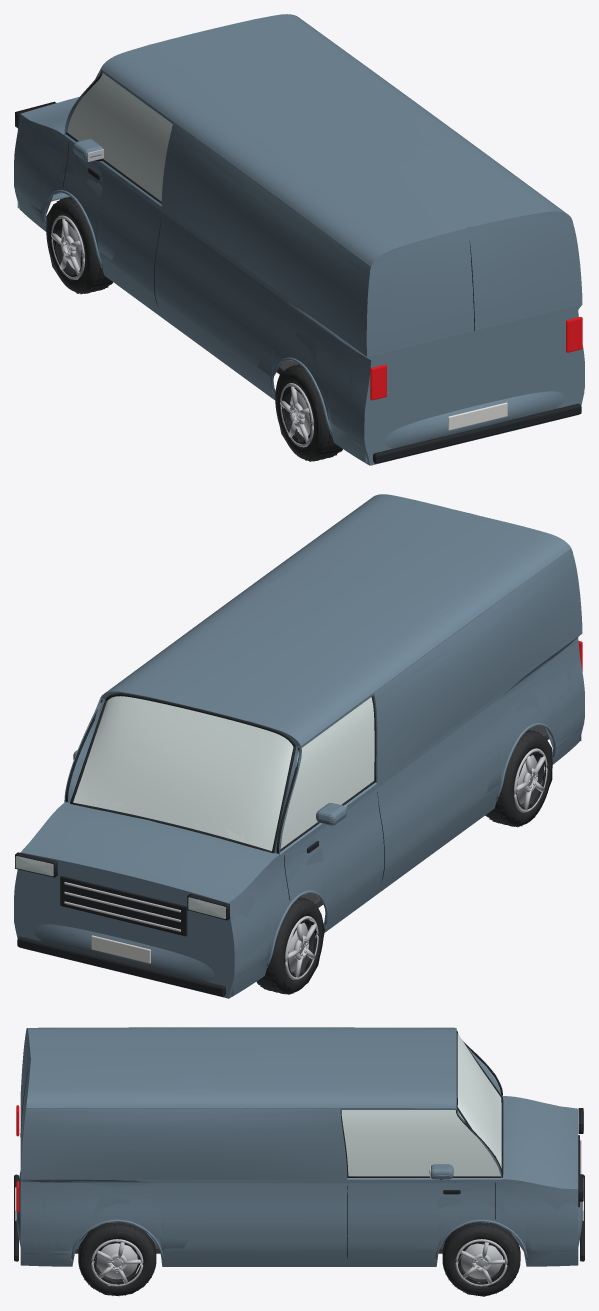
The model's file is VehicleVan.fbx.
3 renders of one model, top to bottom at view 1: azimuth 30°, elevation 25°; view 2: azimuth 150°, elevation 25°; view 3: azimuth 270°, elevation 25°, orthographic. The views are drawn at different scales.
Visible parts, largest first — view 1: VehicleVan_Body_LOD0_Export, VehicleVan_Body_LOD2_Export, VehicleVan_Body_LOD1_Export, VehicleVan_Glass_LOD0_Export, VehicleVan_Wheel_1_LOD0_Export, VehicleVan_Wheel_0_LOD0_Export, VehicleVan_Wheel_0_LOD1_Export, VehicleVan_Wheel_1_LOD1_Export, VehicleVan_Glass_LOD1_Export, VehicleVan_Wheel_0_LOD2_Export, VehicleVan_Wheel_1_LOD2_Export; view 2: VehicleVan_Body_LOD0_Export, VehicleVan_Body_LOD2_Export, VehicleVan_Glass_LOD0_Export, VehicleVan_Body_LOD1_Export, VehicleVan_Glass_LOD1_Export, VehicleVan_Wheel_1_LOD0_Export, VehicleVan_Wheel_0_LOD0_Export, VehicleVan_Wheel_1_LOD1_Export, VehicleVan_Wheel_0_LOD1_Export, VehicleVan_Glass_LOD2_Export, VehicleVan_Wheel_0_LOD2_Export, VehicleVan_Wheel_1_LOD2_Export; view 3: VehicleVan_Body_LOD0_Export, VehicleVan_Body_LOD2_Export, VehicleVan_Body_LOD1_Export, VehicleVan_Glass_LOD0_Export, VehicleVan_Wheel_3_LOD0_Export, VehicleVan_Wheel_2_LOD0_Export, VehicleVan_Wheel_2_LOD1_Export, VehicleVan_Glass_LOD1_Export, VehicleVan_Wheel_3_LOD1_Export, VehicleVan_Wheel_3_LOD2_Export, VehicleVan_Wheel_2_LOD2_Export.
Part boxes in pixels (box(x1,y1,x2,y2)): VehicleVan_Body_LOD0_Export: box(14, 14, 584, 465); VehicleVan_Body_LOD2_Export: box(14, 14, 584, 465); VehicleVan_Body_LOD1_Export: box(14, 14, 584, 464); VehicleVan_Glass_LOD0_Export: box(67, 73, 172, 201); VehicleVan_Wheel_1_LOD0_Export: box(46, 197, 112, 294); VehicleVan_Wheel_0_LOD0_Export: box(275, 364, 341, 461); VehicleVan_Wheel_0_LOD1_Export: box(275, 367, 341, 460); VehicleVan_Wheel_1_LOD1_Export: box(46, 199, 111, 293); VehicleVan_Glass_LOD1_Export: box(70, 77, 171, 187); VehicleVan_Wheel_0_LOD2_Export: box(277, 367, 342, 458); VehicleVan_Wheel_1_LOD2_Export: box(46, 200, 112, 293); VehicleVan_Body_LOD0_Export: box(14, 494, 584, 998); VehicleVan_Body_LOD2_Export: box(14, 499, 584, 998); VehicleVan_Glass_LOD0_Export: box(15, 696, 374, 918); VehicleVan_Body_LOD1_Export: box(14, 494, 583, 997); VehicleVan_Glass_LOD1_Export: box(16, 696, 374, 917); VehicleVan_Wheel_1_LOD0_Export: box(257, 897, 323, 994); VehicleVan_Wheel_0_LOD0_Export: box(486, 729, 552, 827); VehicleVan_Wheel_1_LOD1_Export: box(257, 900, 323, 994); VehicleVan_Wheel_0_LOD1_Export: box(487, 732, 552, 825); VehicleVan_Glass_LOD2_Export: box(94, 704, 298, 842); VehicleVan_Wheel_0_LOD2_Export: box(485, 733, 552, 826); VehicleVan_Wheel_1_LOD2_Export: box(256, 903, 324, 994); VehicleVan_Body_LOD0_Export: box(14, 1027, 584, 1266); VehicleVan_Body_LOD2_Export: box(15, 1027, 583, 1266); VehicleVan_Body_LOD1_Export: box(16, 1027, 582, 1266); VehicleVan_Glass_LOD0_Export: box(341, 1034, 583, 1197); VehicleVan_Wheel_3_LOD0_Export: box(442, 1222, 520, 1295); VehicleVan_Wheel_2_LOD0_Export: box(78, 1222, 156, 1296); VehicleVan_Wheel_2_LOD1_Export: box(78, 1225, 155, 1295); VehicleVan_Glass_LOD1_Export: box(341, 1037, 583, 1190); VehicleVan_Wheel_3_LOD1_Export: box(443, 1225, 520, 1294); VehicleVan_Wheel_3_LOD2_Export: box(443, 1227, 519, 1296); VehicleVan_Wheel_2_LOD2_Export: box(79, 1229, 155, 1295).
Size of the model in its own units: 2.12 by 1.89 by 5.02.
